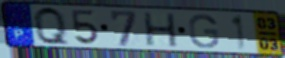1: (230, 13, 247, 53)
5: (69, 9, 100, 46)
7: (107, 8, 139, 48)
G: (187, 13, 221, 49)
H: (142, 12, 180, 49)
Q: (31, 5, 72, 48)
